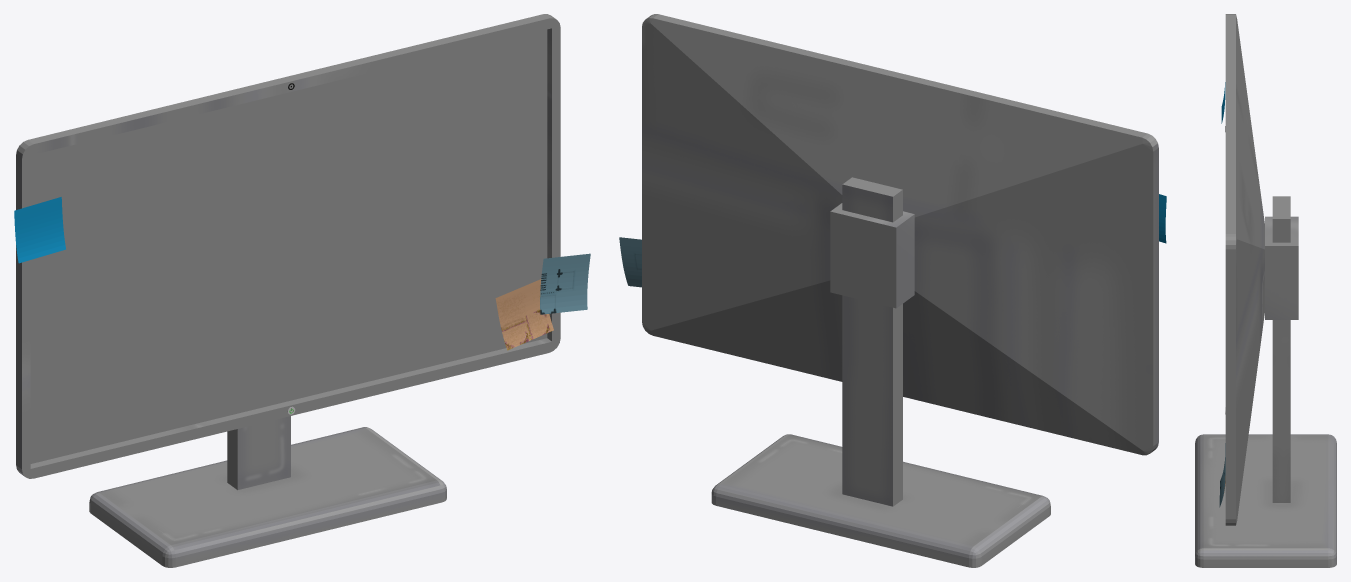
Rendered from monitor.obj.
The picture shows the model from 3 angles, left to right: view 1: azimuth 30°, elevation 25°; view 2: azimuth 150°, elevation 25°; view 3: azimuth 270°, elevation 25°; orthographic projection. The views are drawn at different scales.
Parts seen in each view (by area): view 1: Cube.002; view 2: Cube.002; view 3: Cube.002.
Part boxes in pixels (left/top/right/bottom): Cube.002: left=14, top=14, right=590, bottom=567; Cube.002: left=619, top=14, right=1166, bottom=567; Cube.002: left=1195, top=14, right=1336, bottom=567.
Bounding box in the file's own units: 5.05 × 3.69 × 1.24.
Materials: 7 (3 with a texture image).
